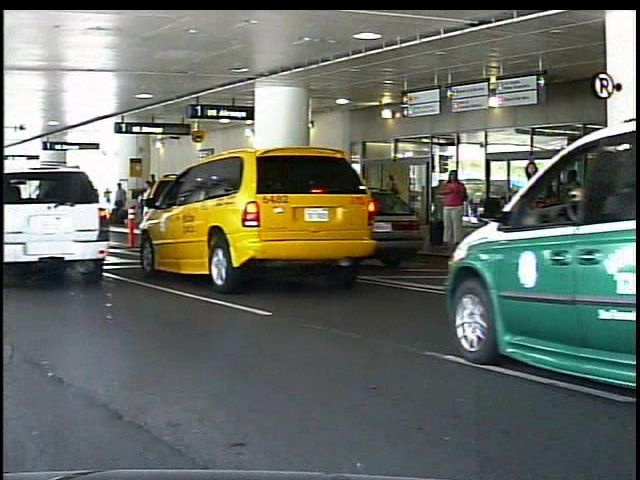person: (523, 159, 551, 263), (442, 167, 471, 252), (388, 172, 411, 236), (116, 179, 132, 230)
